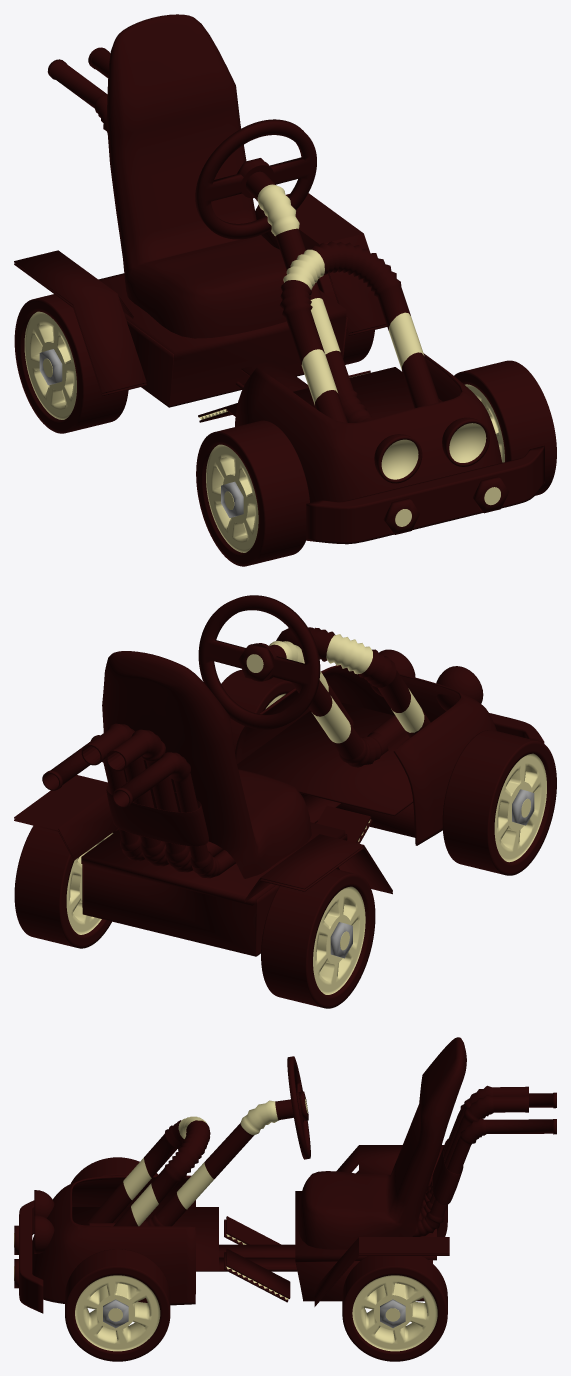
The model's file is Carrito completo UVS_escala_V3_Gizmo llantas.FBX.
3 renders of one model, top to bottom at view 1: azimuth 30°, elevation 25°; view 2: azimuth 150°, elevation 25°; view 3: azimuth 270°, elevation 25°, orthographic. The views are drawn at different scales.
Parts seen in each view (by area): view 1: asiento, cofre, Llanta_DD, salpicaderas, cajaAsiento, tuboDoble, Llanta_TD, defensa, volante, Llanta_DI, tuboVolante, TapaMotor (+6 smaller); view 2: asiento, cajaAsiento, Llanta_DD, Llanta_TD, cofre, mofles, TapaMotor, salpicaderas, Llanta_TI, volante, tuboDoble, tuboVolante (+10 smaller); view 3: asiento, cofre, Llanta_DI, Llanta_TI, mofles, tuboDoble, salpicaderas, tuboVolante, cajaAsiento, pedales, TapaMotor, defensa (+6 smaller).
Boxes of the visible parts, bbox=[...] form: asiento: bbox=[106, 14, 286, 338]; cofre: bbox=[235, 353, 502, 502]; Llanta_DD: bbox=[196, 420, 309, 566]; salpicaderas: bbox=[14, 193, 387, 396]; cajaAsiento: bbox=[98, 273, 347, 407]; tuboDoble: bbox=[279, 241, 439, 422]; Llanta_TD: bbox=[14, 294, 128, 433]; defensa: bbox=[306, 445, 544, 544]; volante: bbox=[195, 119, 316, 239]; Llanta_DI: bbox=[454, 360, 556, 495]; tuboVolante: bbox=[246, 171, 371, 422]; TapaMotor: bbox=[226, 367, 442, 418]; asiento: bbox=[102, 651, 311, 878]; cajaAsiento: bbox=[81, 822, 347, 956]; Llanta_DD: bbox=[442, 730, 556, 875]; Llanta_TD: bbox=[261, 869, 375, 1008]; cofre: bbox=[235, 665, 496, 845]; mofles: bbox=[42, 723, 235, 878]; TapaMotor: bbox=[237, 702, 413, 815]; salpicaderas: bbox=[14, 775, 392, 902]; Llanta_TI: bbox=[14, 825, 118, 948]; volante: bbox=[198, 595, 320, 729]; tuboDoble: bbox=[276, 627, 430, 737]; tuboVolante: bbox=[269, 641, 388, 767]; asiento: bbox=[297, 1037, 466, 1249]; cofre: bbox=[32, 1175, 195, 1305]; Llanta_DI: bbox=[65, 1249, 170, 1361]; Llanta_TI: bbox=[342, 1256, 447, 1361]; mofles: bbox=[412, 1085, 556, 1236]; tuboDoble: bbox=[87, 1116, 210, 1226]; salpicaderas: bbox=[314, 1145, 449, 1306]; tuboVolante: bbox=[87, 1099, 293, 1226]; cajaAsiento: bbox=[295, 1191, 436, 1301]; pedales: bbox=[224, 1216, 290, 1302]; TapaMotor: bbox=[72, 1207, 218, 1271]; defensa: bbox=[19, 1200, 43, 1313].
Size of the model in its own units: 160 by 177 by 332.
